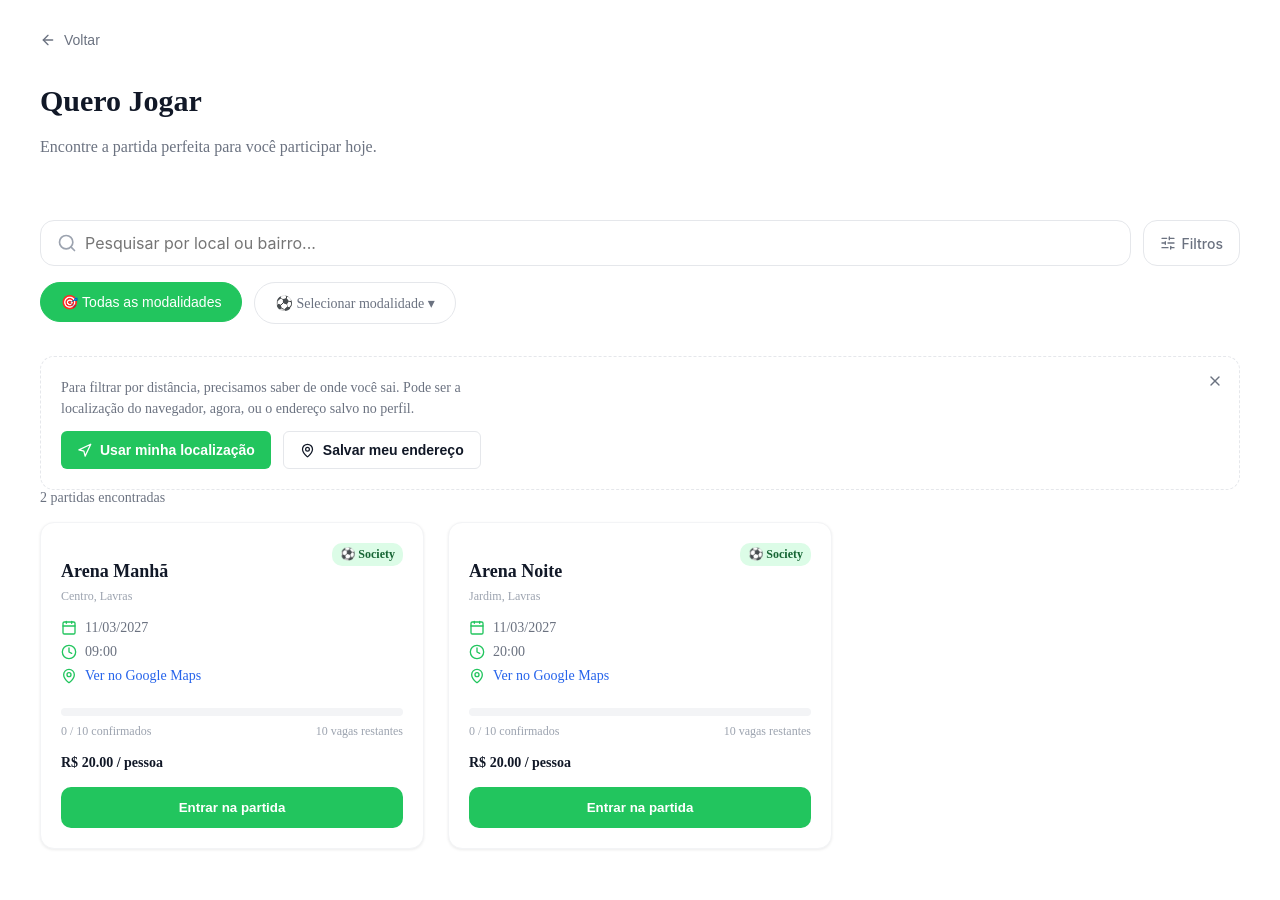
Scenario: QueroJogar — filtros aplicados sobre o que já veio › a busca por texto casa com nome do local e com bairro
Type "jardim" into the field with placeholder "Pesquisar por local ou bairro..." at (599, 243), box [85, 221, 1114, 265]
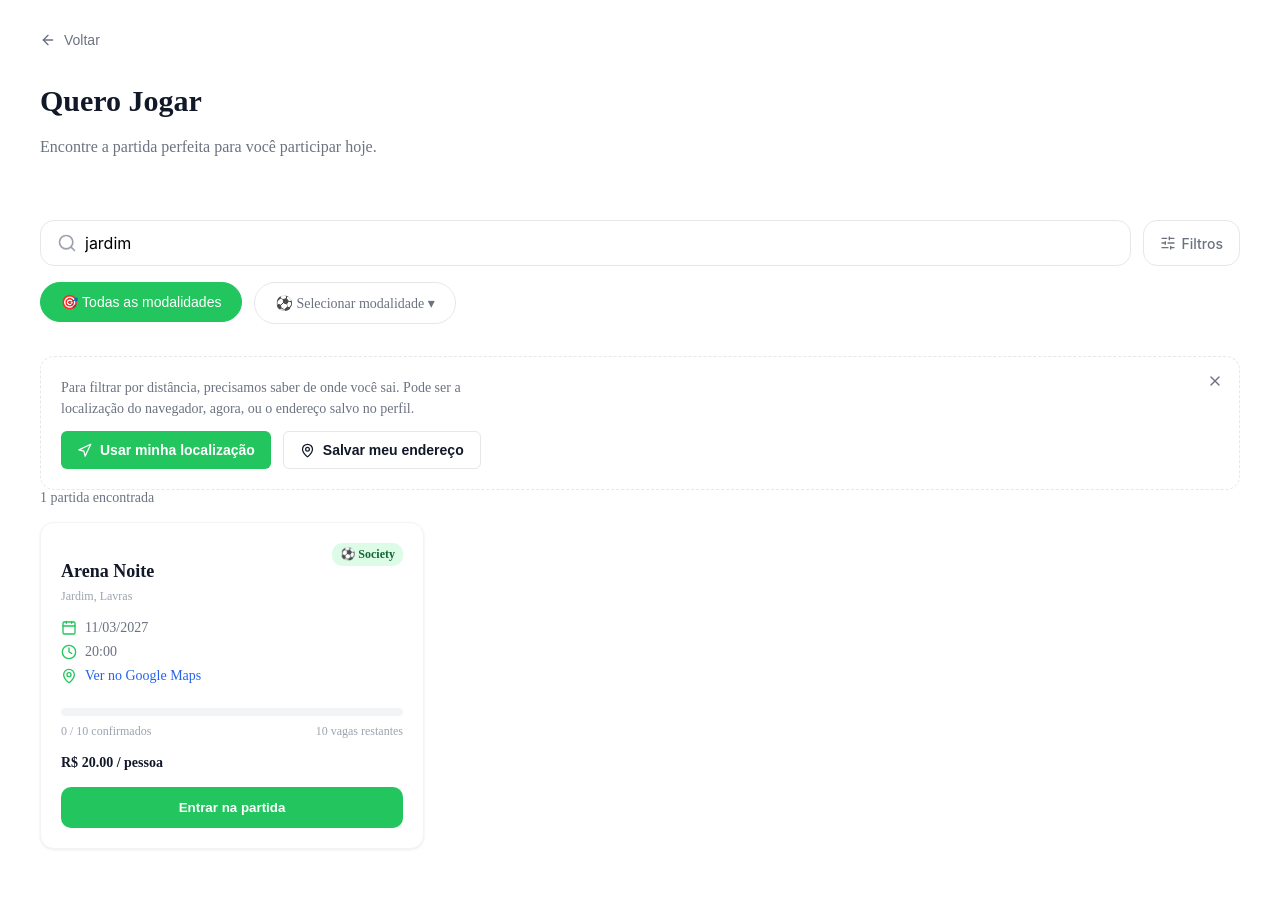
Expected: the heading "Arena Noite" is shown, [61, 561, 154, 582]
Now the heading "Arena Manhã" is gone
